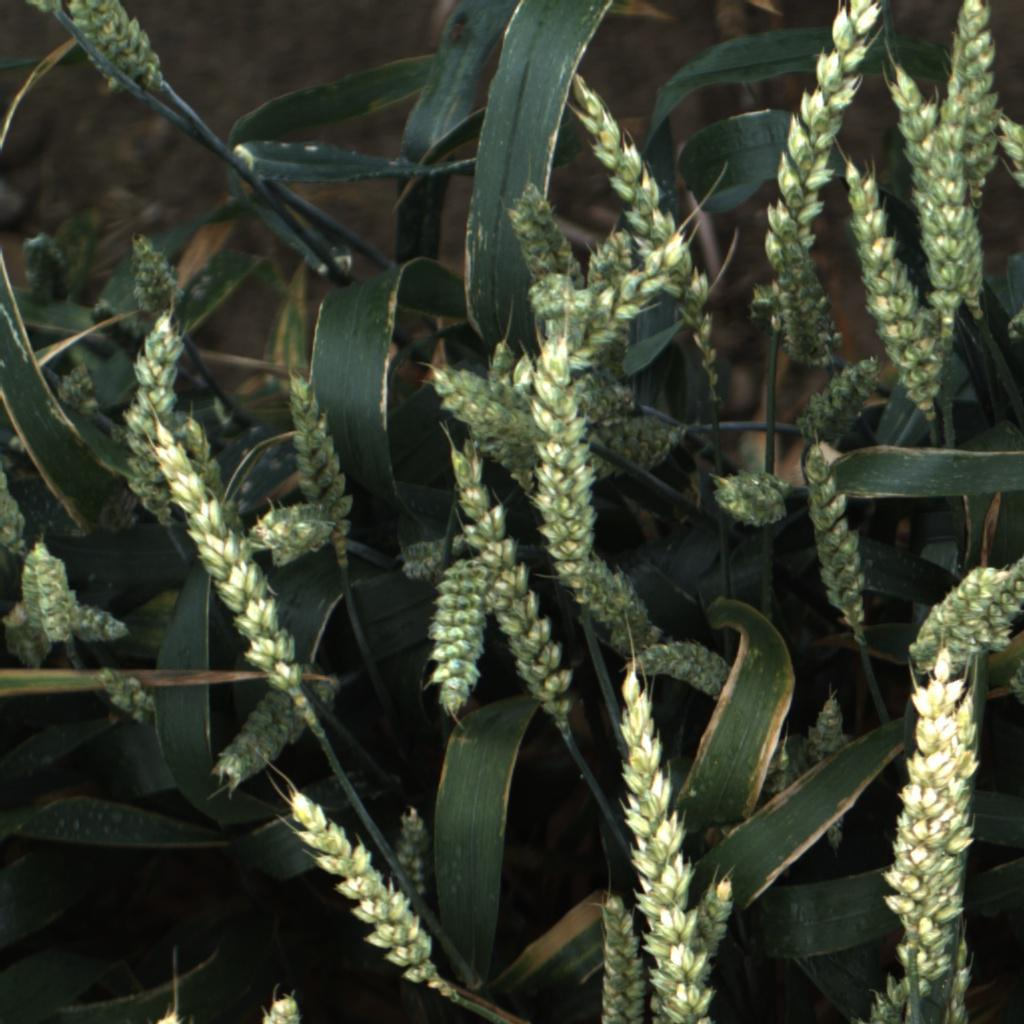0-0: (567, 69, 726, 353), (150, 422, 307, 695), (446, 440, 579, 737), (618, 662, 726, 1024), (882, 643, 989, 1001), (280, 789, 459, 1002), (758, 0, 890, 275), (832, 148, 946, 427), (888, 59, 986, 308), (555, 232, 690, 371), (527, 326, 602, 564), (428, 357, 589, 462), (800, 438, 879, 647), (915, 71, 978, 330), (280, 362, 377, 530), (214, 660, 341, 786), (119, 310, 187, 533), (557, 535, 672, 661), (420, 545, 496, 730), (937, 0, 1001, 202), (905, 565, 1011, 681), (178, 411, 260, 551), (62, 0, 173, 97), (575, 228, 643, 383), (486, 336, 544, 496), (797, 348, 887, 446), (85, 295, 188, 378), (498, 179, 587, 274), (584, 410, 688, 488), (748, 284, 849, 364), (15, 532, 79, 658), (771, 255, 839, 369), (592, 888, 648, 1024), (627, 636, 733, 705), (119, 231, 193, 316), (691, 867, 755, 965), (248, 498, 343, 561), (968, 551, 1024, 653), (711, 466, 791, 530), (390, 796, 441, 895), (391, 531, 480, 584), (17, 230, 77, 304), (563, 375, 640, 431), (93, 663, 158, 725), (806, 688, 854, 767), (61, 598, 133, 647), (849, 972, 907, 1024), (940, 935, 973, 1024), (0, 601, 43, 668), (521, 269, 575, 321), (994, 108, 1024, 199), (0, 467, 29, 559), (761, 741, 806, 800), (57, 363, 96, 407), (258, 994, 302, 1024), (1005, 656, 1024, 707), (1002, 303, 1023, 349), (24, 0, 66, 16)
